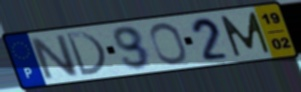2: (190, 14, 236, 65)
9: (111, 24, 154, 71)
D: (63, 30, 108, 77)
M: (218, 10, 273, 59)
N: (27, 33, 83, 82)
O: (147, 21, 190, 66)
